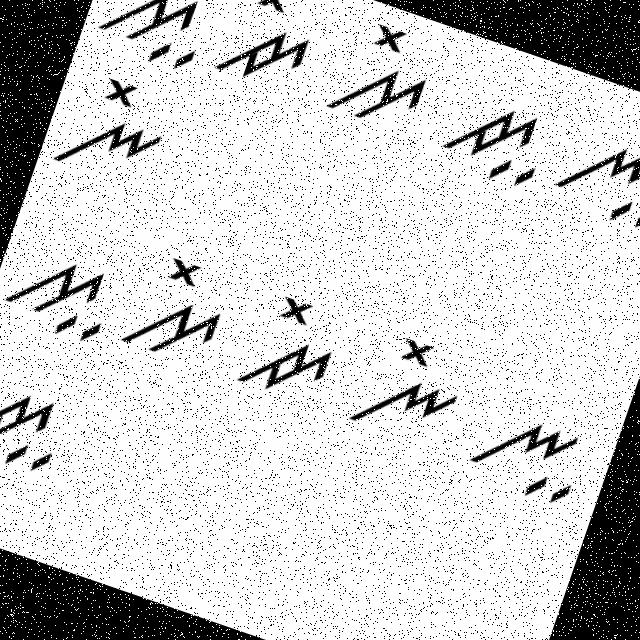jah: (433, 82, 557, 196), (0, 372, 78, 489)
jo: (225, 279, 360, 417), (212, 0, 328, 101)
nyah: (456, 393, 594, 514), (543, 118, 639, 239)
nyo: (42, 60, 186, 196), (341, 318, 476, 460)
sah: (0, 237, 123, 360), (93, 0, 221, 79)
so: (316, 5, 446, 146), (112, 243, 239, 374)
